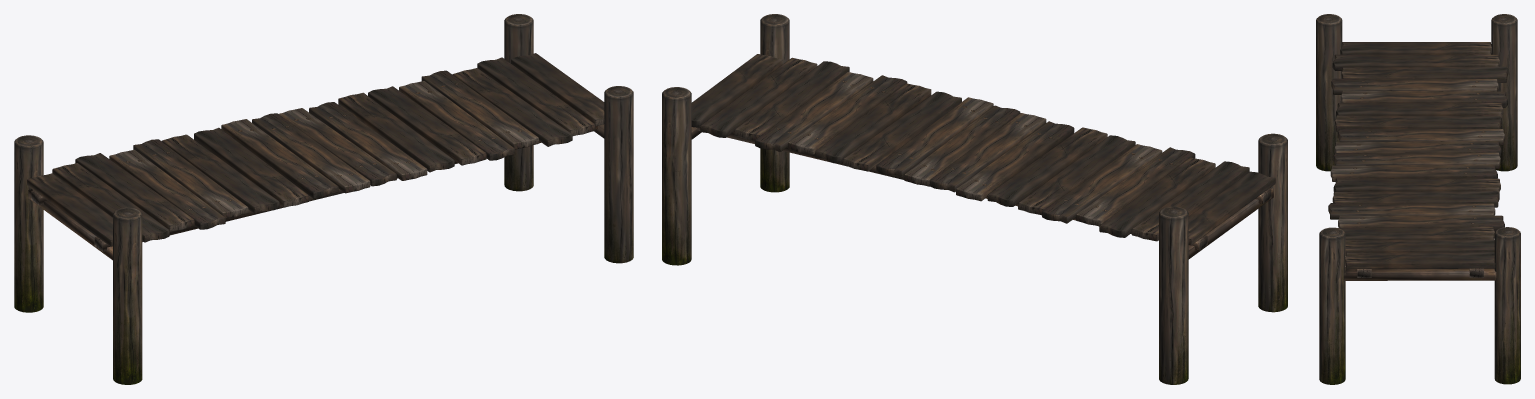
The model's file is longDock.obj.
3 renders of one model, left to right at view 1: azimuth 30°, elevation 25°; view 2: azimuth 150°, elevation 25°; view 3: azimuth 270°, elevation 25°, orthographic. The views are drawn at different scales.
Parts seen in each view (by area): view 1: polySurface53 Mesh; view 2: polySurface53 Mesh; view 3: polySurface53 Mesh.
Part boxes in pixels (box(x1,y1,x2,y2)): polySurface53 Mesh: box(14, 14, 633, 384); polySurface53 Mesh: box(662, 14, 1287, 384); polySurface53 Mesh: box(1316, 14, 1520, 384).
Bounding box in the file's own units: 14.54 × 4.43 × 5.6.
Materials: 1 (1 with a texture image).
